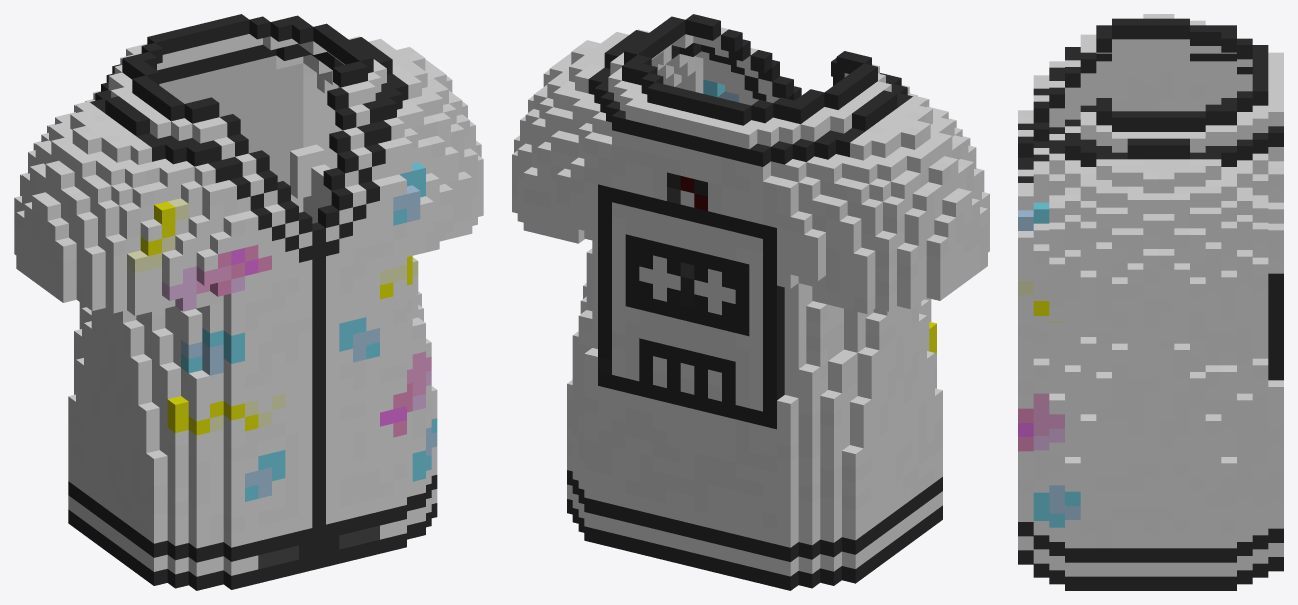
The model's file is 42f25d48-e534-4409-8441-d0ae9edbb8c9.glb.
3 renders of one model, left to right at view 1: azimuth 30°, elevation 25°; view 2: azimuth 150°, elevation 25°; view 3: azimuth 270°, elevation 25°, orthographic.
Bounding box in the file's own units: 1.55 × 1.6 × 0.85.
